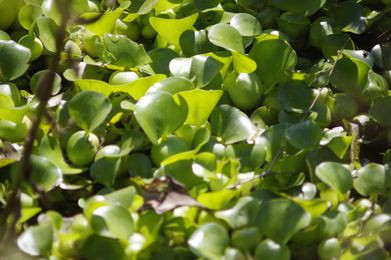water_hyacinth: (70, 1, 391, 172)
